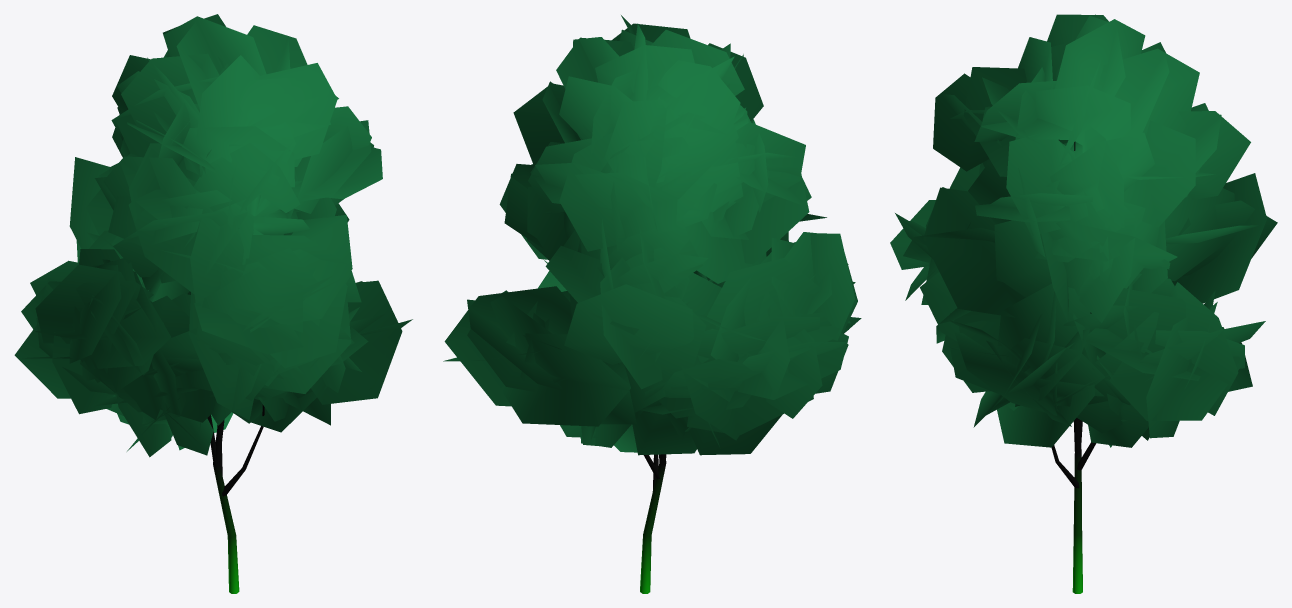
The model's file is SM_OakSapling1.fbx.
3 views of the same model, side by side, from view 1: azimuth 30°, elevation 25°; view 2: azimuth 150°, elevation 25°; view 3: azimuth 270°, elevation 25° (orthographic).
Parts seen in each view (by area): view 1: SM_OakSapling1_LOD0; view 2: SM_OakSapling1_LOD0; view 3: SM_OakSapling1_LOD0.
Boxes of the visible parts, bbox=[...] form: SM_OakSapling1_LOD0: bbox=[14, 14, 412, 593]; SM_OakSapling1_LOD0: bbox=[443, 15, 861, 593]; SM_OakSapling1_LOD0: bbox=[890, 14, 1277, 593].
Size of what is drawn, in the model's own units: 5.37 by 5.24 by 8.42.
